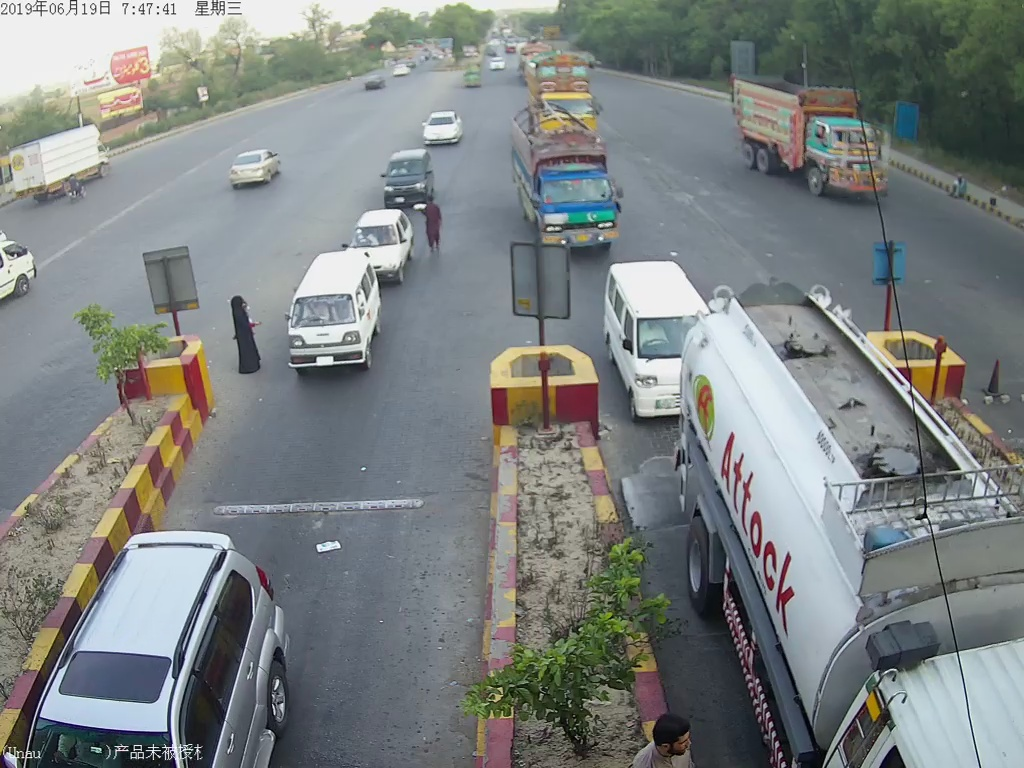Cat-1: (597, 254, 711, 424), (285, 245, 386, 384), (345, 208, 422, 281), (374, 146, 440, 209), (416, 103, 466, 147)
Cat-2: (511, 108, 622, 248)
Cat-4: (735, 76, 898, 199)
